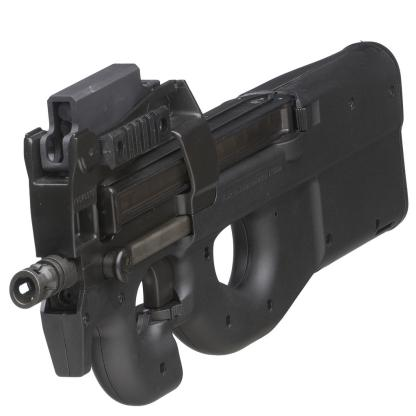Handgun: (9, 40, 408, 406)
